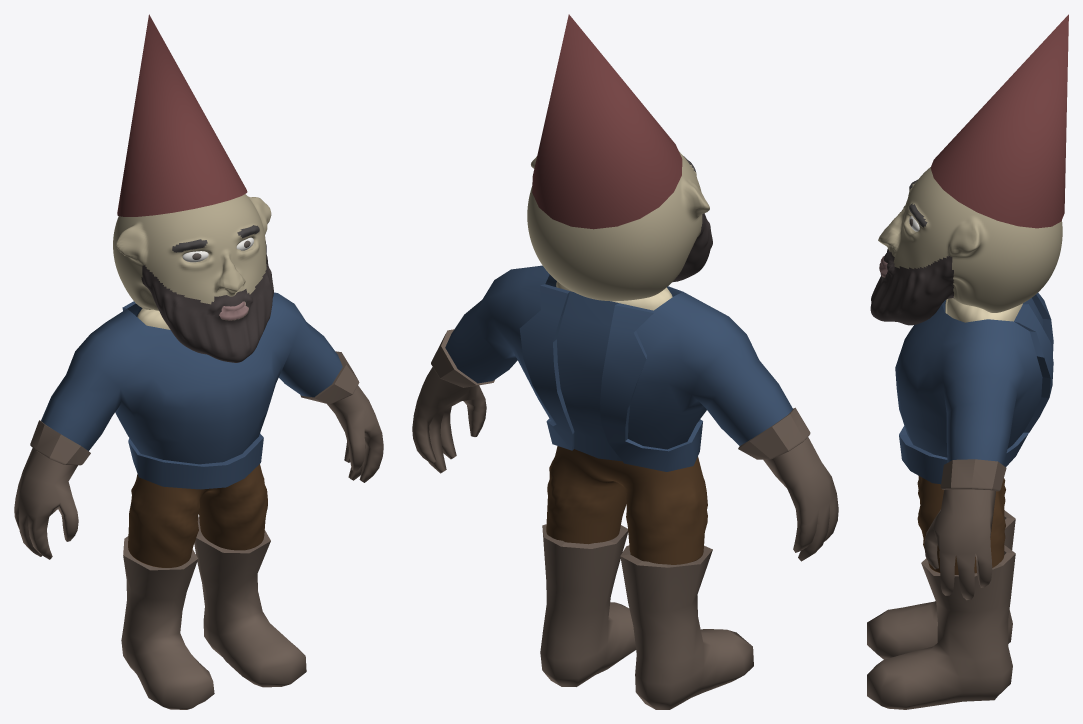
Rendered from Garden gnome.fbx.
The picture shows the model from 3 angles, left to right: view 1: azimuth 30°, elevation 25°; view 2: azimuth 150°, elevation 25°; view 3: azimuth 270°, elevation 25°; orthographic projection. The views are drawn at different scales.
Parts seen in each view (by area): view 1: pCylinder2; view 2: pCylinder2; view 3: pCylinder2.
Boxes of the visible parts, box(x1,y1,x2,y2) form: pCylinder2: box(14, 14, 383, 709); pCylinder2: box(412, 14, 838, 709); pCylinder2: box(867, 14, 1068, 709).
Size of the model in its own units: 64.8 by 110 by 30.25.
